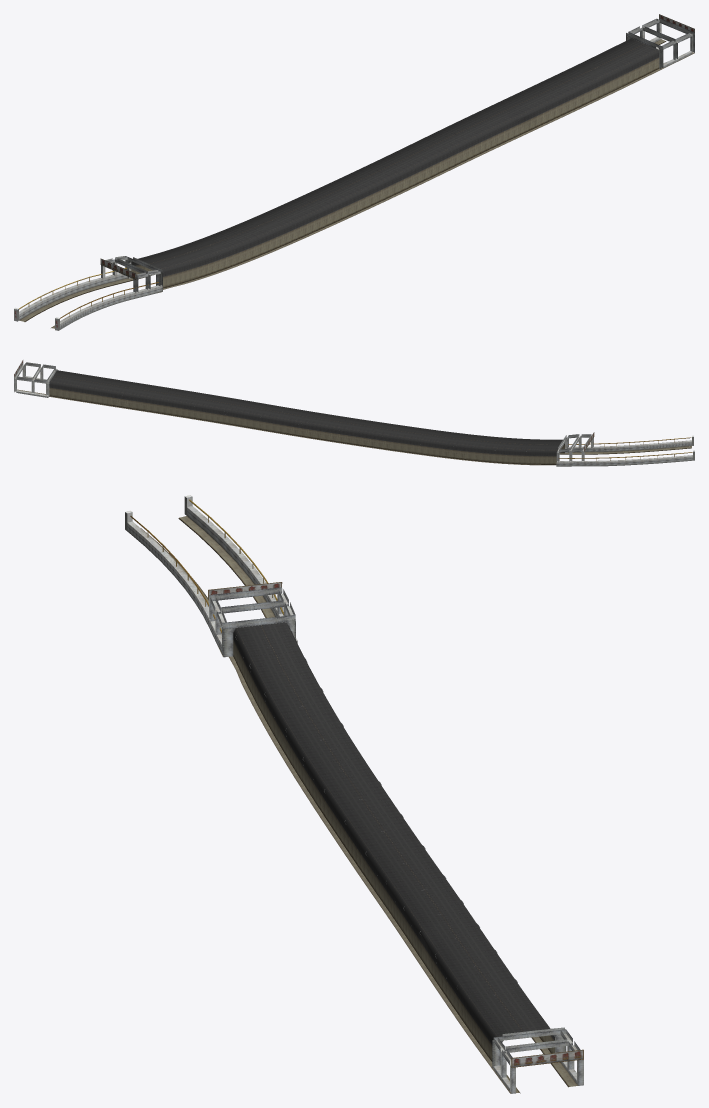
File: revtun.FBX
3 views of the same model, one above another, from view 1: azimuth 30°, elevation 25°; view 2: azimuth 150°, elevation 25°; view 3: azimuth 270°, elevation 25° (orthographic). The views are drawn at different scales.
Parts seen in each view (by area): view 1: sh_revtun; view 2: sh_revtun; view 3: sh_revtun.
Part boxes in pixels (x1,y1,x2,y2): sh_revtun: (14, 14, 694, 330); sh_revtun: (14, 360, 694, 466); sh_revtun: (125, 495, 583, 1093).
Bounding box in the file's own units: 429 × 24.88 × 144.
